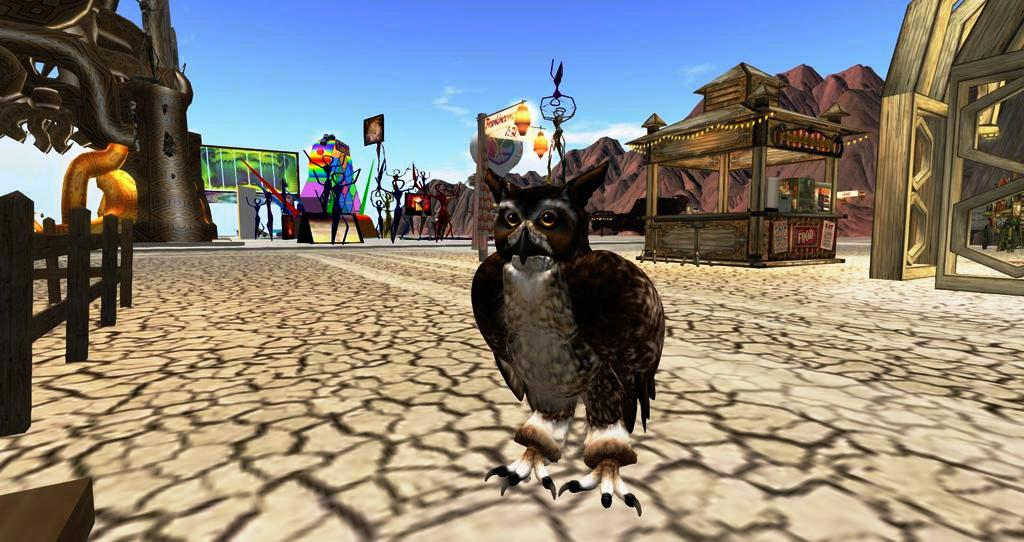Owl: (467, 156, 673, 512)
